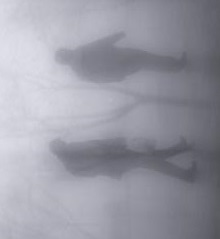person: (55, 31, 189, 83), (49, 138, 196, 181)
